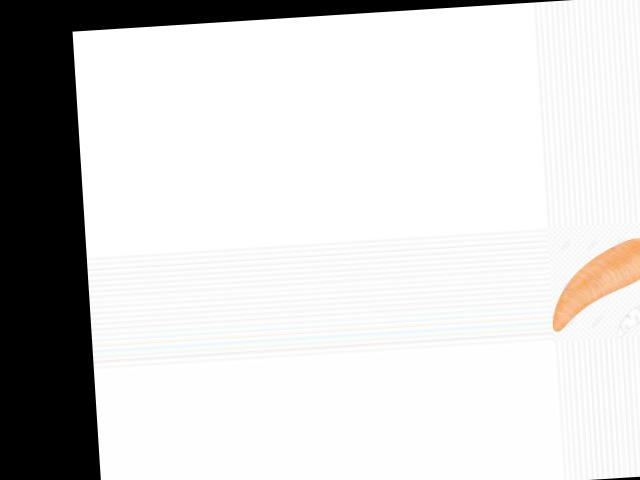carrot: (545, 223, 640, 337)
